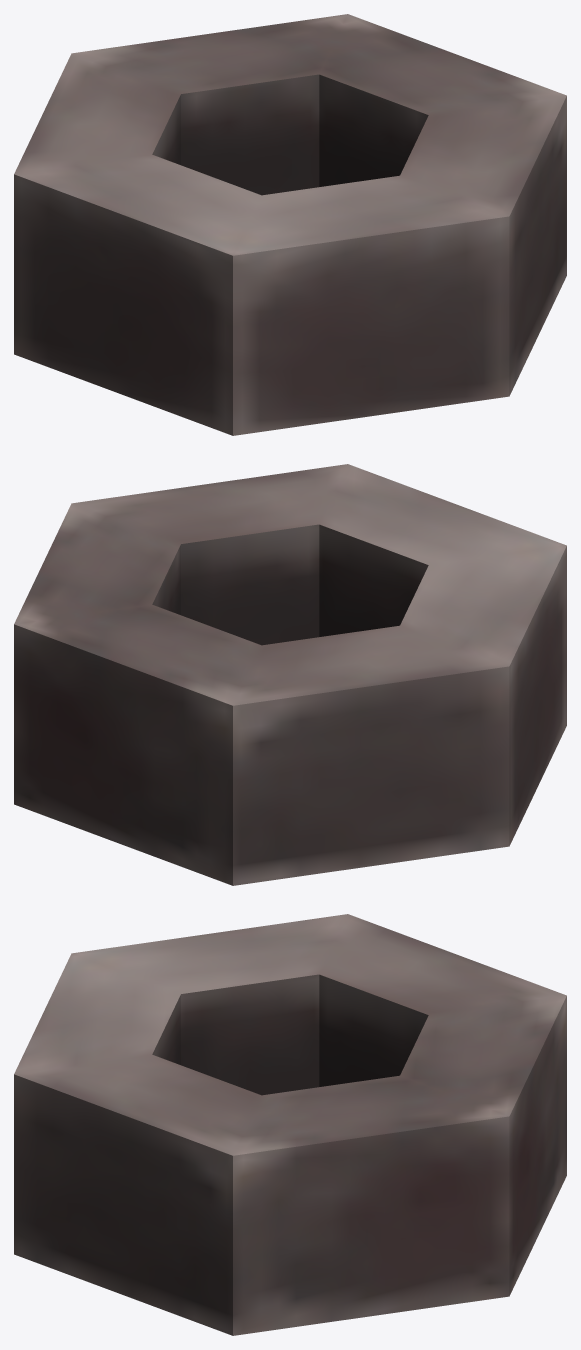
Rendered from Nut 48 tris.fbx.
3 views of the same model, one above another, from view 1: azimuth 30°, elevation 25°; view 2: azimuth 150°, elevation 25°; view 3: azimuth 270°, elevation 25° (orthographic).
Visible parts, largest first — view 1: Nut 48 tris; view 2: Nut 48 tris; view 3: Nut 48 tris.
Boxes of the visible parts, bbox=[...] form: Nut 48 tris: bbox=[14, 14, 566, 435]; Nut 48 tris: bbox=[14, 464, 566, 885]; Nut 48 tris: bbox=[14, 914, 566, 1335].
Size of the model in its own units: 67.65 by 23.79 by 65.39.
